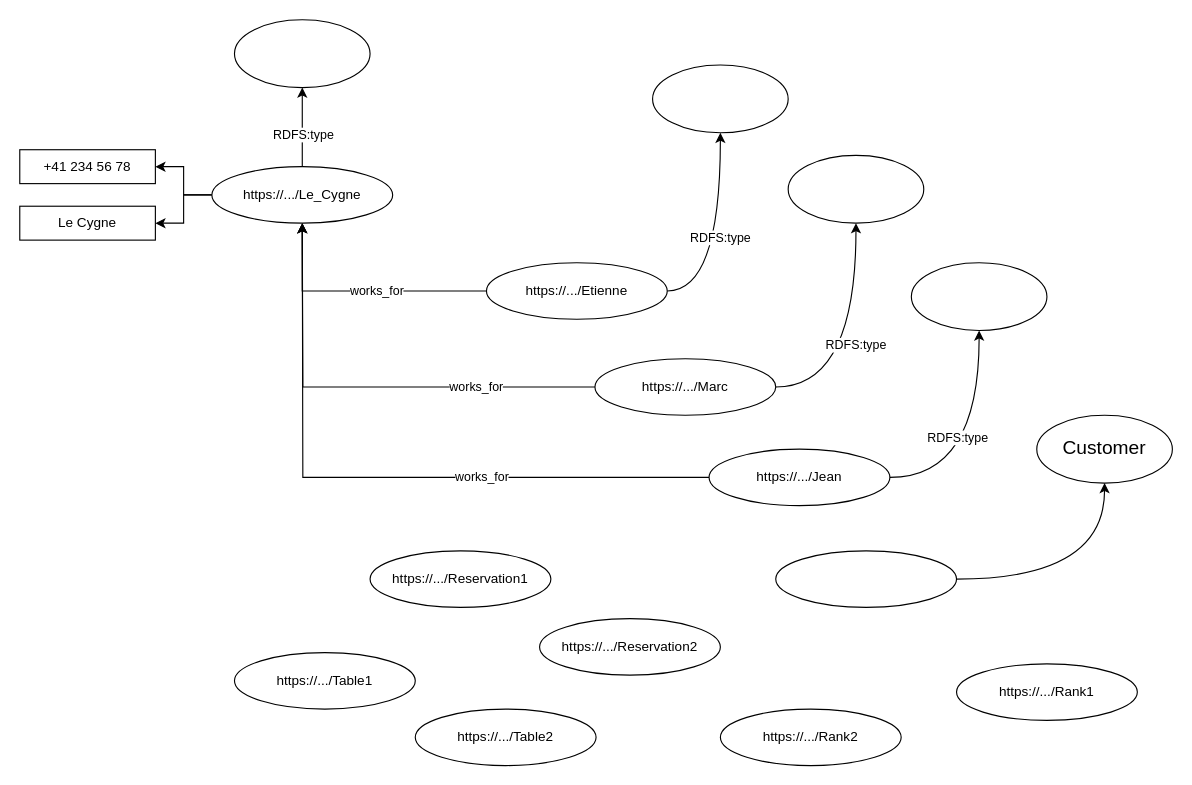
The diagram is 1192 pixels wide and 785 high, and some of its shapes have lost their labels. The centre of each missing label's shape, as x and y in pixels:
"Cook" belongs at point (719, 98).
"https://.../Paul" belongs at point (866, 578).
"Manager" belongs at point (978, 296).
"Restaurant" belongs at point (301, 53).
"Waiter" belongs at point (855, 188).
